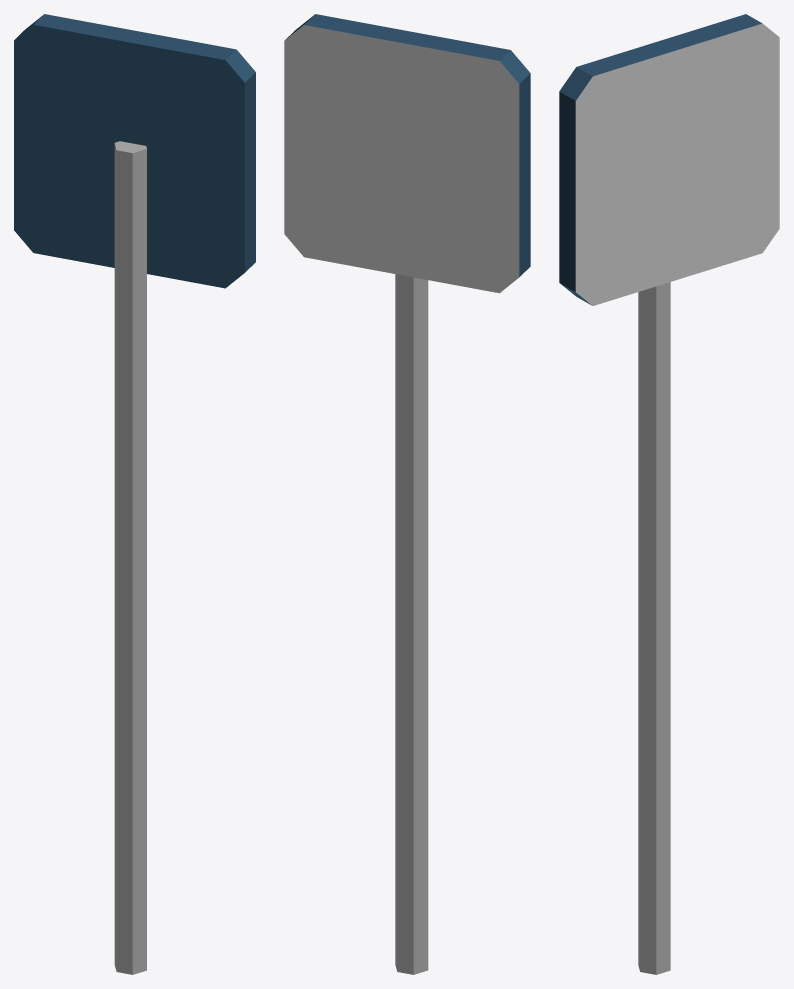
Rendered from Bus Sign.fbx.
3 renders of one model, left to right at view 1: azimuth 30°, elevation 25°; view 2: azimuth 210°, elevation 25°; view 3: azimuth 270°, elevation 25°, orthographic.
Parts seen in each view (by area): view 1: Bus Sign; view 2: Bus Sign; view 3: Bus Sign.
Boxes of the visible parts, x1,y1,x2,y2 form: Bus Sign: (14,14,255,974); Bus Sign: (284,14,530,974); Bus Sign: (559,14,779,974).
Bounding box in the file's own units: 57.9 × 73.82 × 343.
